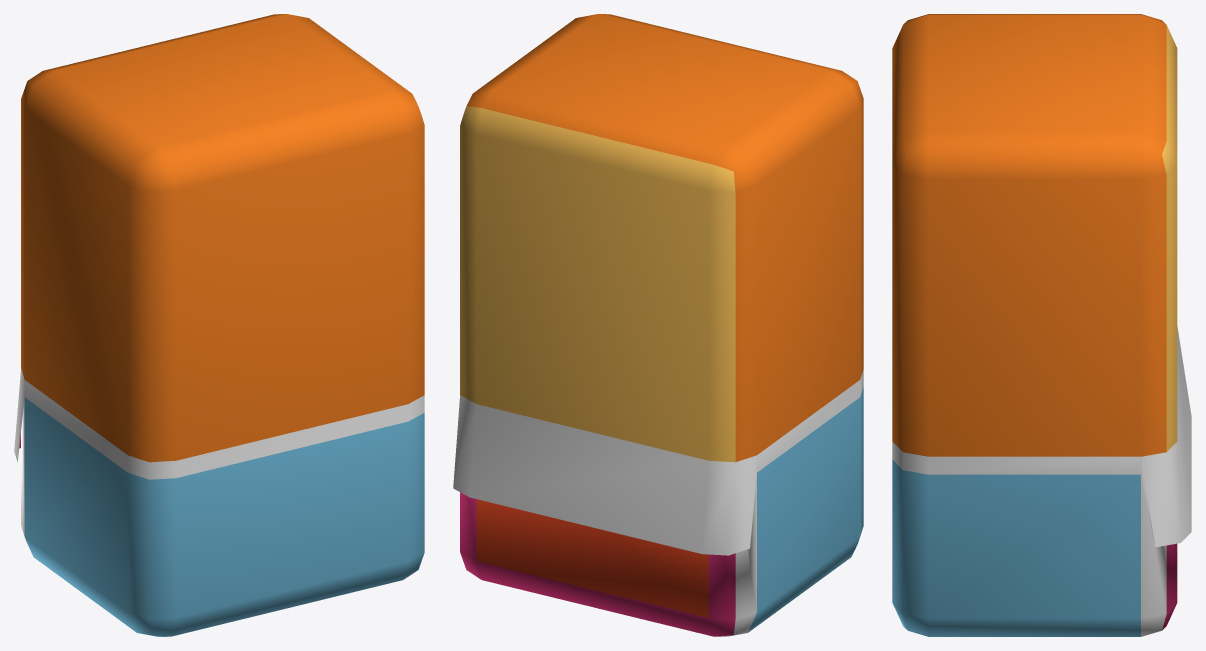
The model's file is Cheese.glb.
3 views of the same model, side by side, from view 1: azimuth 30°, elevation 25°; view 2: azimuth 150°, elevation 25°; view 3: azimuth 270°, elevation 25° (orthographic). The views are drawn at different scales.
Parts seen in each view (by area): view 1: cheese; view 2: cheese; view 3: cheese.
Boxes of the visible parts, <box> form: cheese: <box>14,14,424,636</box>; cheese: <box>453,14,863,636</box>; cheese: <box>892,14,1191,636</box>.
Size of the model in its own units: 7.01 by 11.21 by 6.03.
1 material, 1 textured.
